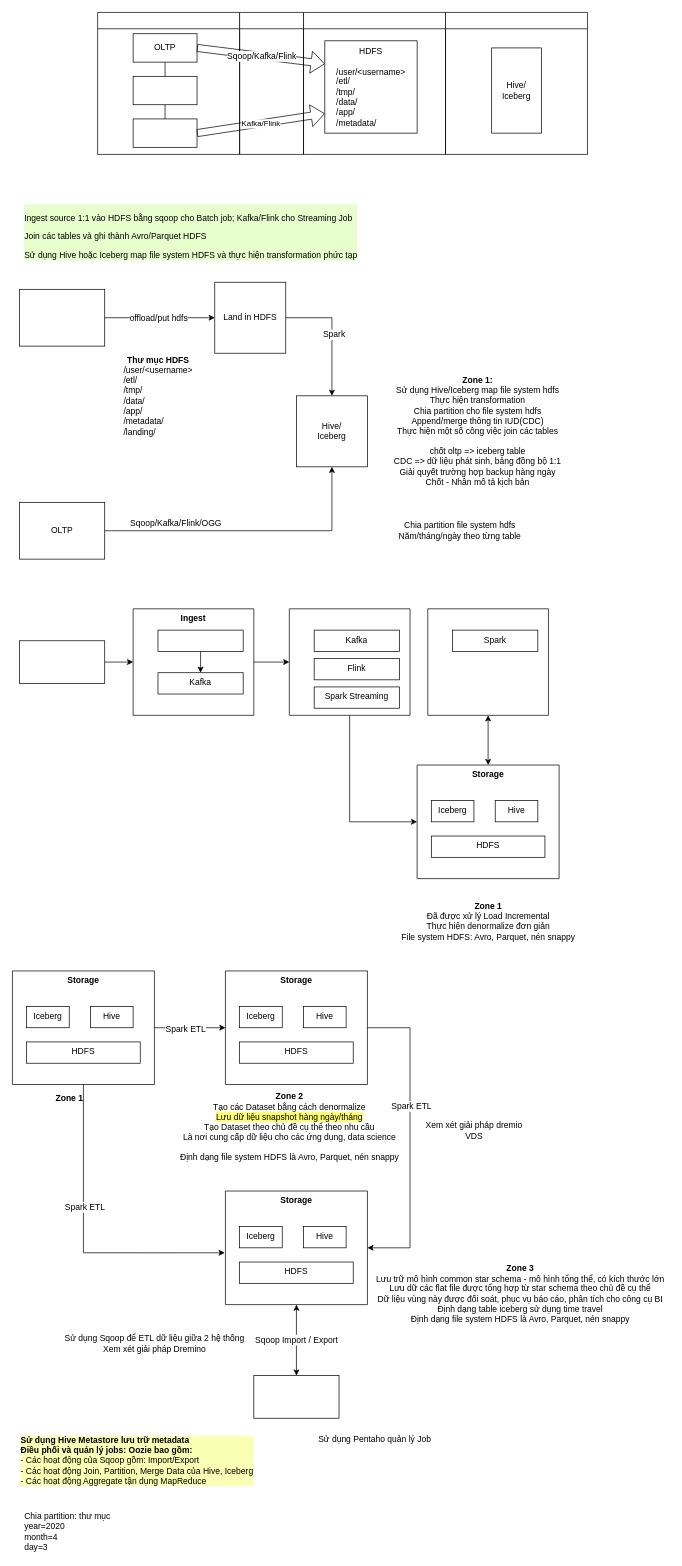
The diagram is 682 pixels wide and 1566 high, and some of its shapes have lost their labels. The box of each missing label's shape, as (x1, y1, x2, y2) in pixels:
Batch Processing: (427, 608, 548, 715)
DWH truyền thống: (253, 1375, 339, 1418)
Events: (19, 640, 105, 683)
Excel/CSV: (132, 76, 197, 105)
Ingestion: (239, 12, 304, 154)
Logs: (132, 118, 197, 147)
OGG: (157, 629, 243, 651)
Source: (97, 12, 240, 154)
Storage HDFS: (303, 12, 446, 154)
Streaming Processing: (289, 608, 410, 715)
Transformation: (445, 12, 588, 154)
XML CSV Excel TXT Logs: (19, 289, 105, 346)
